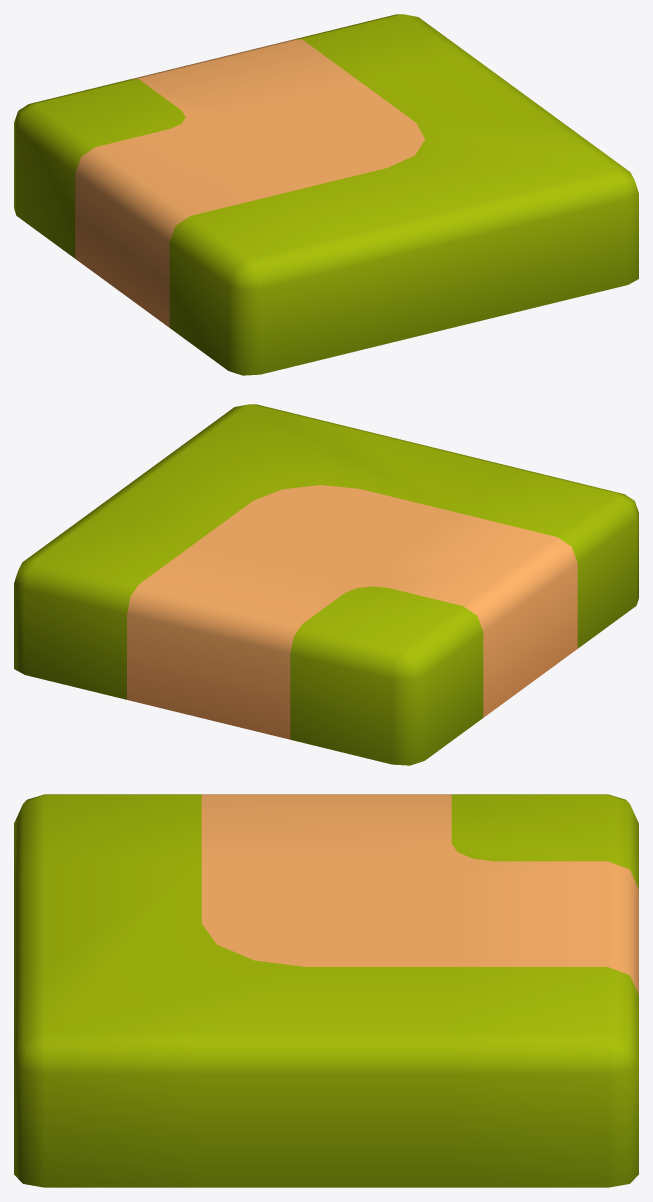
Rendered from 3D_Tile_Top_Path_02.fbx.
The picture shows the model from 3 angles, top to bottom: view 1: azimuth 30°, elevation 25°; view 2: azimuth 150°, elevation 25°; view 3: azimuth 270°, elevation 25°; orthographic projection. The views are drawn at different scales.
Parts seen in each view (by area): view 1: 3D_Tile_Top_Path_02; view 2: 3D_Tile_Top_Path_02; view 3: 3D_Tile_Top_Path_02.
Boxes of the visible parts, x1=… form: 3D_Tile_Top_Path_02: x1=14, y1=14, x2=638, y2=375; 3D_Tile_Top_Path_02: x1=14, y1=404, x2=638, y2=765; 3D_Tile_Top_Path_02: x1=14, y1=794, x2=638, y2=1187.
Bounding box in the file's own units: 200 × 50 × 200.
